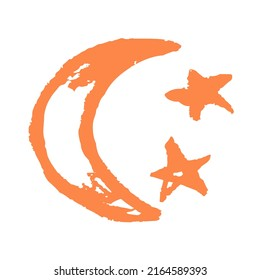moon: (27, 34, 183, 225)
star: (149, 133, 214, 203), (165, 65, 235, 121)
